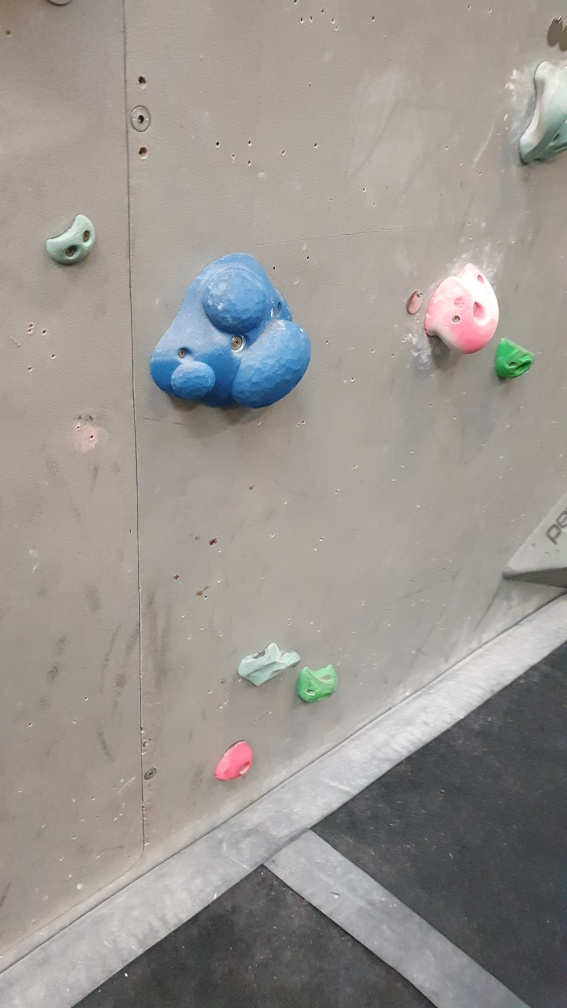Sloper: (147, 251, 317, 412)
